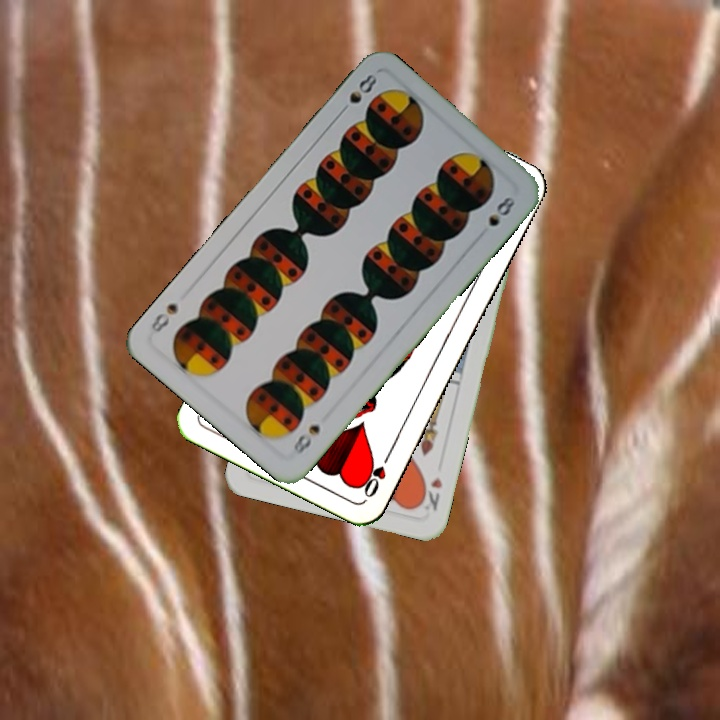HK: (415, 473, 445, 514)
HO: (356, 447, 394, 501)
S8: (334, 68, 380, 118), (289, 421, 323, 457)
